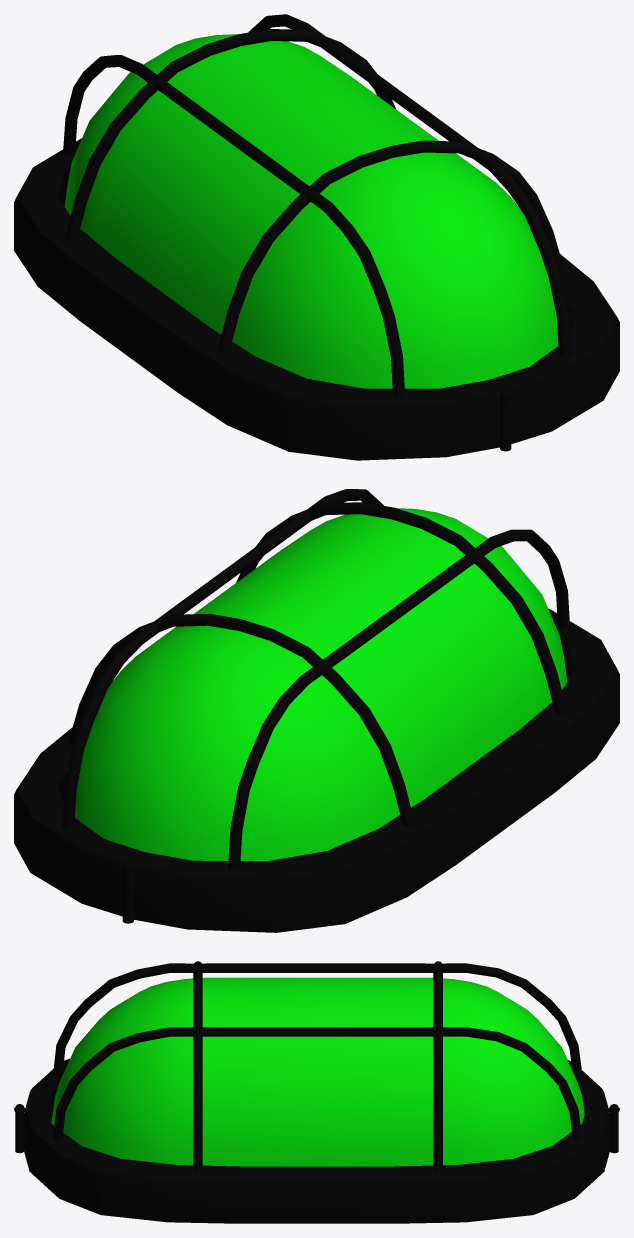
The model's file is lampa.fbx.
3 views of the same model, one above another, from view 1: azimuth 30°, elevation 25°; view 2: azimuth 150°, elevation 25°; view 3: azimuth 270°, elevation 25° (orthographic). The views are drawn at different scales.
Parts seen in each view (by area): view 1: Glass, Metal; view 2: Glass, Metal; view 3: Glass, Metal.
Boxes of the visible parts, x1,y1,x2,y2 form: Glass: (64, 34, 558, 388); Metal: (14, 14, 619, 460); Glass: (63, 508, 567, 860); Metal: (14, 489, 619, 932); Glass: (51, 977, 584, 1166); Metal: (14, 961, 619, 1223).
Bounding box in the file's own units: 214 × 119 × 379.
